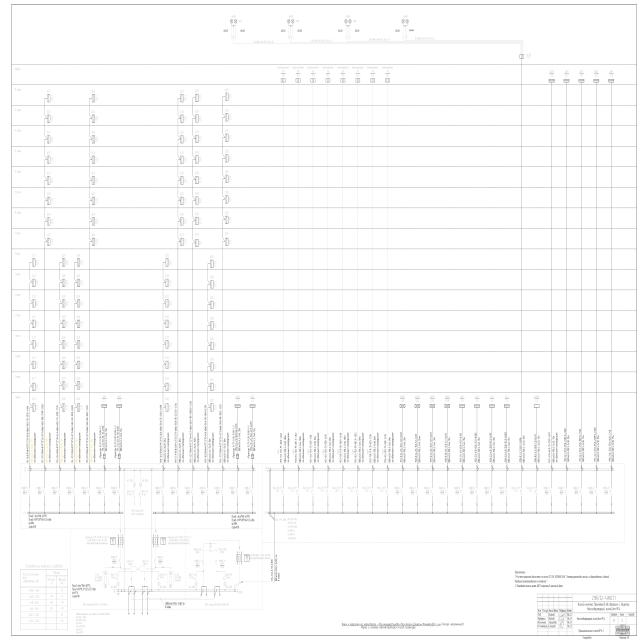-: (85, 535, 109, 545), (167, 535, 191, 545), (157, 556, 164, 564), (110, 572, 118, 579), (111, 555, 117, 564), (95, 602, 108, 606), (127, 559, 134, 566), (142, 559, 149, 566), (160, 584, 167, 590), (160, 573, 166, 579), (110, 585, 118, 589)
HL: (116, 582, 120, 586), (158, 582, 160, 586)
QF: (156, 575, 160, 581), (116, 575, 119, 581), (118, 558, 121, 564), (154, 558, 156, 565)
TT: (152, 536, 160, 546), (117, 536, 124, 546)
WH: (160, 537, 166, 545), (110, 537, 116, 544)
switch: (128, 566, 133, 572), (144, 566, 148, 572)
